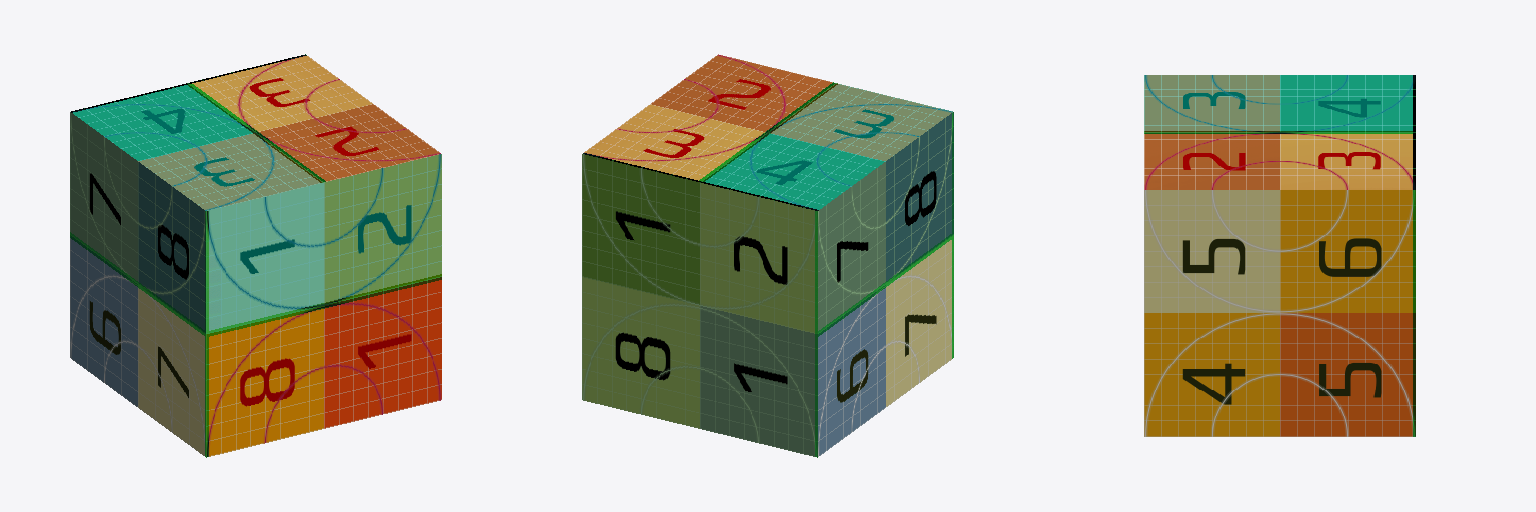
3 renders of one model, left to right at view 1: azimuth 30°, elevation 25°; view 2: azimuth 150°, elevation 25°; view 3: azimuth 270°, elevation 25°, orthographic.
Visible parts, largest first — view 1: Cube; view 2: Cube; view 3: Cube.
Part boxes in pixels (bbox=[...]): Cube: bbox=[70, 54, 441, 457]; Cube: bbox=[582, 54, 953, 457]; Cube: bbox=[1144, 75, 1415, 436].
Bounding box in the file's own units: 10 × 10 × 10.
Materials: 1 (1 with a texture image).